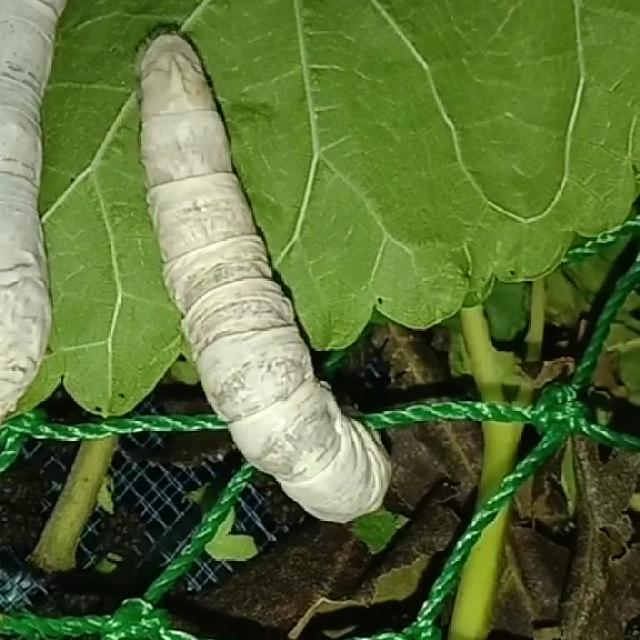Grasserie: (116, 22, 427, 532)
